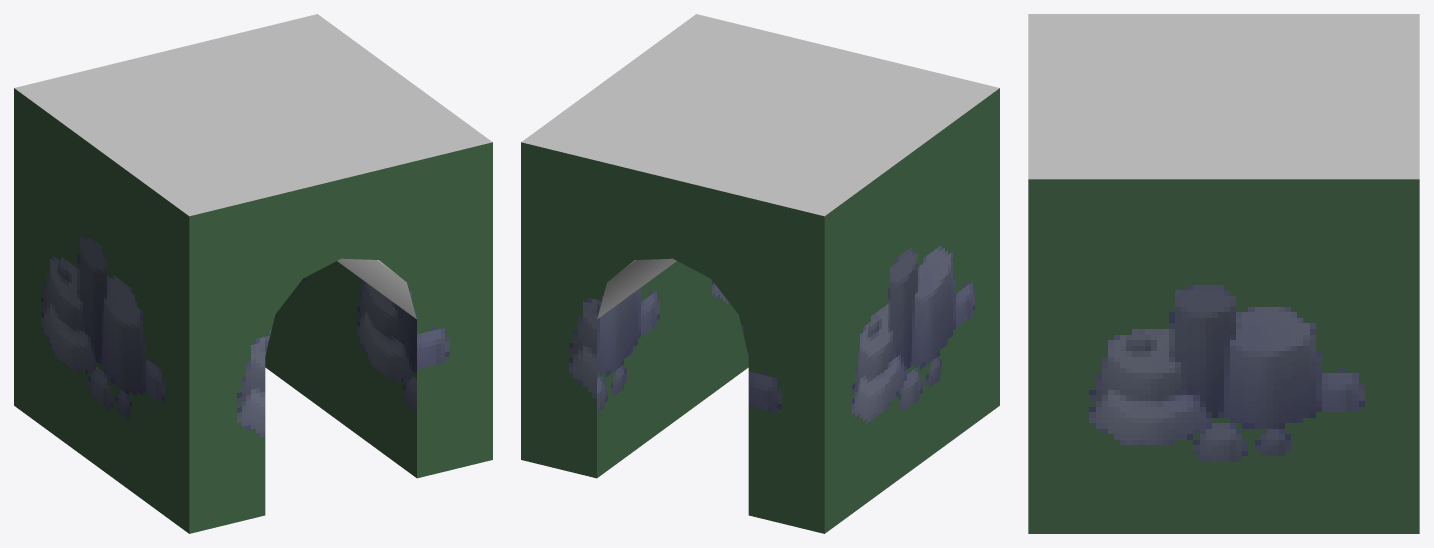
The model's file is wall_gate.dae.
3 renders of one model, left to right at view 1: azimuth 30°, elevation 25°; view 2: azimuth 150°, elevation 25°; view 3: azimuth 270°, elevation 25°, orthographic. The views are drawn at different scales.
Visible parts, largest first — view 1: wall_gate; view 2: wall_gate; view 3: wall_gate.
Boxes of the visible parts, x1,y1,x2,y2 form: wall_gate: (14,14,492,533); wall_gate: (521,14,999,533); wall_gate: (1028,14,1419,533).
Bounding box in the file's own units: 1 × 1 × 1.
